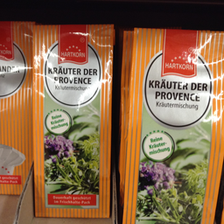spices: (122, 27, 223, 224), (33, 24, 113, 219)
